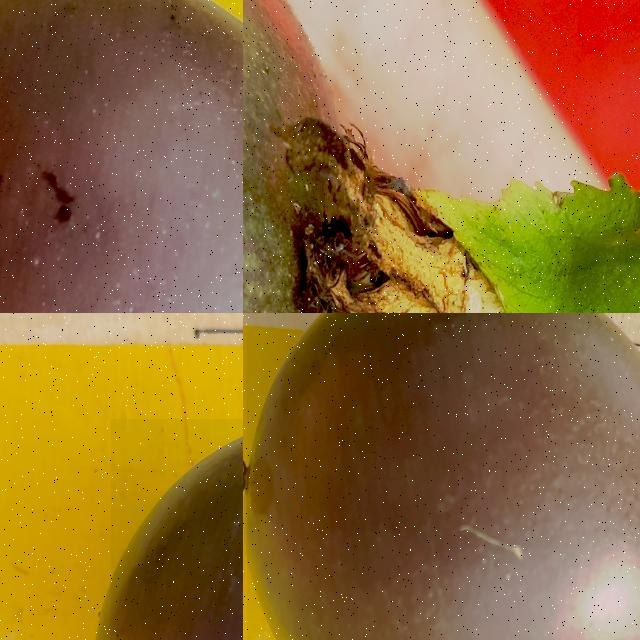Estado-3: (243, 0, 640, 313)
Estado-4: (246, 313, 640, 640)
Estado-5: (112, 450, 243, 640)
